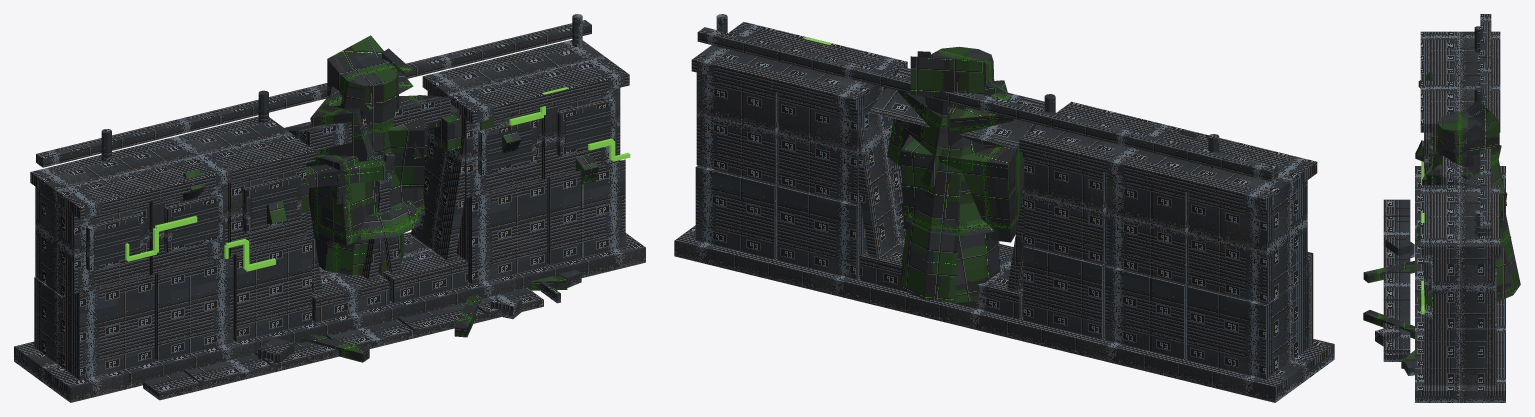
Rendered from epsilon_installation.glb.
The picture shows the model from 3 angles, left to right: view 1: azimuth 30°, elevation 25°; view 2: azimuth 150°, elevation 25°; view 3: azimuth 270°, elevation 25°; orthographic projection. The views are drawn at different scales.
Parts seen in each view (by area): view 1: epsilon_installation; view 2: epsilon_installation; view 3: epsilon_installation.
Part boxes in pixels (x1=…): epsilon_installation: x1=14, y1=14, x2=645, y2=402; epsilon_installation: x1=674, y1=14, x2=1334, y2=402; epsilon_installation: x1=1363, y1=14, x2=1520, y2=402.
Bounding box in the file's own units: 8.8 × 3.55 × 2.61.
4 materials, 3 textured.
